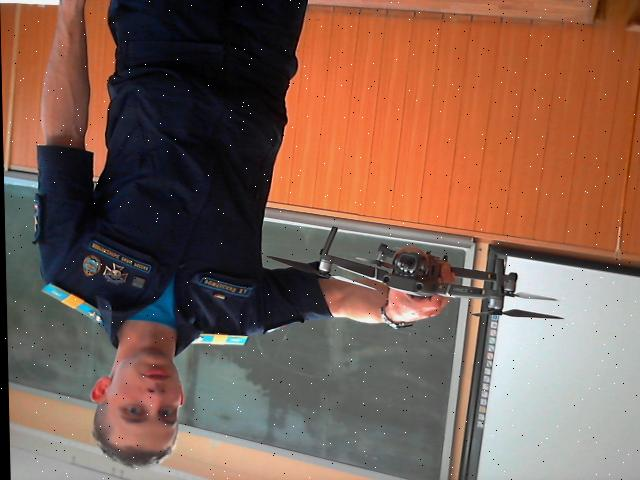drone: (248, 230, 566, 329)
